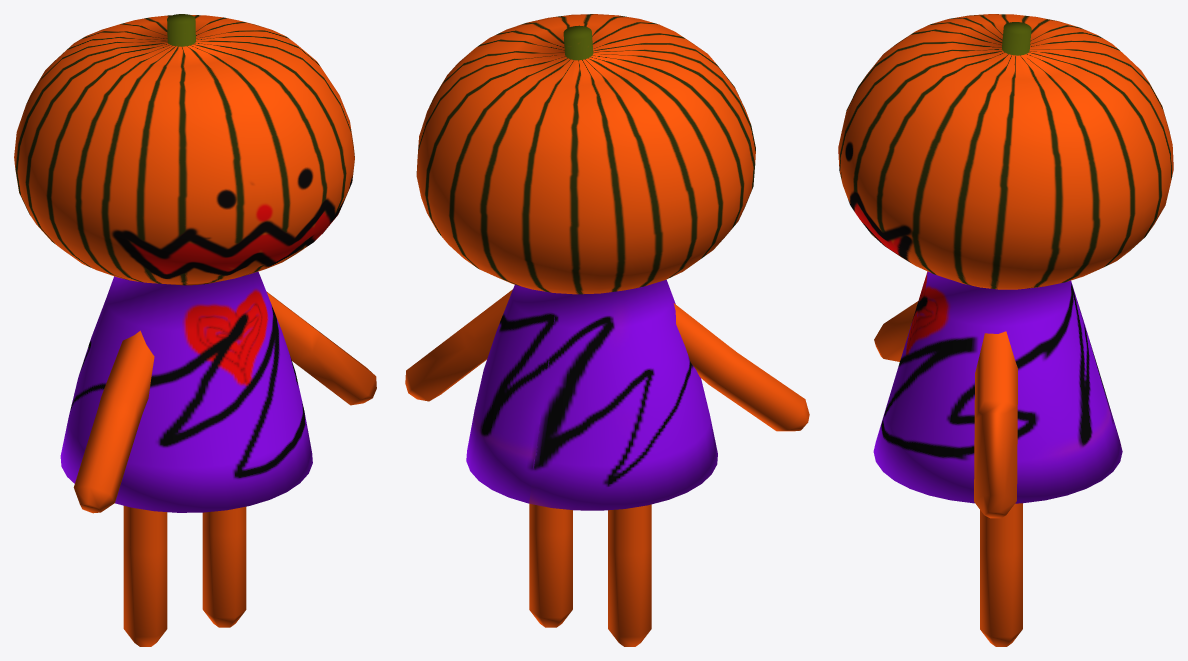
Rendered from kabocha.obj.
The picture shows the model from 3 angles, left to right: view 1: azimuth 30°, elevation 25°; view 2: azimuth 150°, elevation 25°; view 3: azimuth 270°, elevation 25°; orthographic projection.
Parts seen in each view (by area): view 1: body_Cylinder; view 2: body_Cylinder; view 3: body_Cylinder.
Part boxes in pixels (x1,y1,x2,y2): body_Cylinder: [14, 14, 376, 646]; body_Cylinder: [405, 14, 809, 646]; body_Cylinder: [838, 14, 1173, 646].
Size of the model in its own units: 0.9546 by 1.59 by 0.8097.
